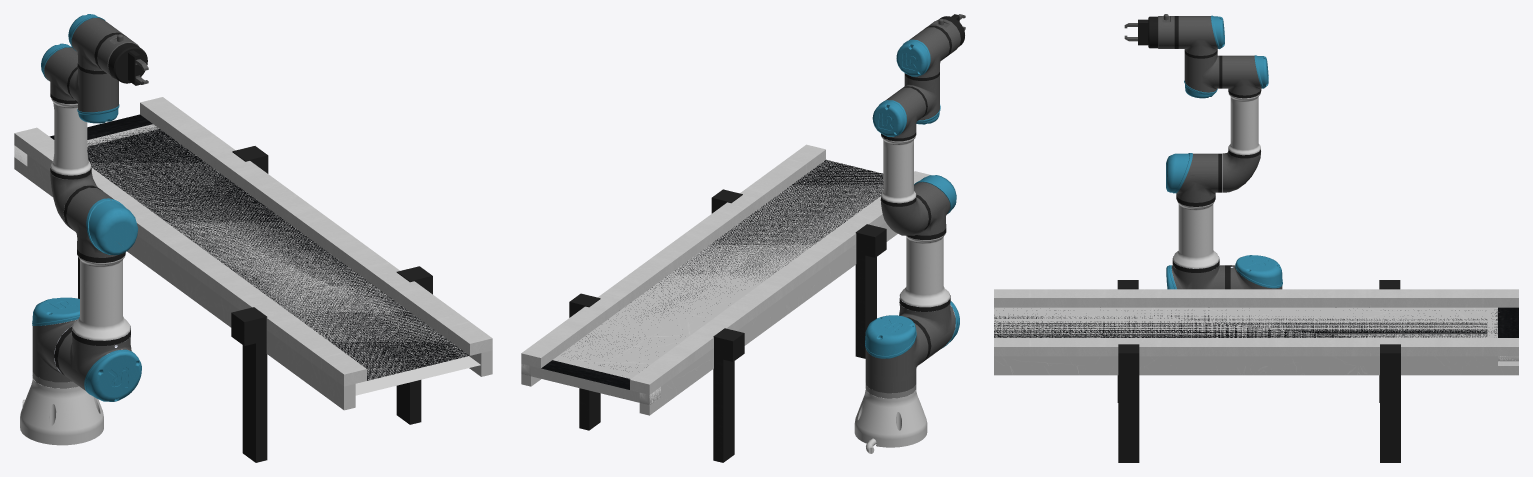
Rendered from UR_Pick_and_Place_Station_v1.glb.
The picture shows the model from 3 angles, left to right: view 1: azimuth 30°, elevation 25°; view 2: azimuth 150°, elevation 25°; view 3: azimuth 270°, elevation 25°; orthographic projection. The views are drawn at different scales.
Visible parts, largest first — view 1: color-6[5], color-6[2], URjoint2_Bodies, color-6[3], color-6[4], URjoint3_Bodies, URbase_Bodies, color-7[1], URjoint1_Bodies, URjoint4_Bodies, URjoint5_Bodies, color-7[2] (+5 smaller); view 2: color-6[5], color-6[2], color-6[3], color-6[4], URjoint2_Bodies, URjoint3_Bodies, URjoint1_Bodies, URbase_Bodies, color-7, color-7[1], color-6, URjoint5_Bodies (+3 smaller); view 3: color-6[5], color-6[4], color-6[3], color-6[2], URjoint2_Bodies, URjoint3_Bodies, color-7[2], color-7[3], URjoint5_Bodies, URjoint1_Bodies, URjoint4_Bodies, color-6 (+2 smaller).
Boxes of the visible parts, x1,y1,x2,y2 form: color-6[5]: (34,129,492,410); color-6[2]: (49,114,469,380); URjoint2_Bodies: (54,187,141,401); color-6[3]: (140,97,492,355); color-6[4]: (14,127,366,386); URjoint3_Bodies: (41,43,102,228); URbase_Bodies: (20,378,103,445); color-7[1]: (231,307,267,462); URjoint1_Bodies: (32,297,79,388); URjoint4_Bodies: (67,66,119,123); URjoint5_Bodies: (68,14,123,74); color-7[2]: (396,266,432,424); color-6[5]: (558,160,897,401); color-6[2]: (541,159,883,389); color-6[3]: (521,144,825,368); color-6[4]: (630,171,931,394); URjoint2_Bodies: (896,175,959,362); URjoint3_Bodies: (872,87,931,235); URjoint1_Bodies: (865,315,928,398); URbase_Bodies: (854,388,927,453); color-7: (713,328,744,462); color-7[1]: (855,224,886,358); color-6: (521,356,678,415); URjoint5_Bodies: (896,27,949,80); color-6[5]: (994,307,1487,375); color-6[4]: (994,289,1518,307); color-6[3]: (994,338,1518,356); color-6[2]: (994,307,1518,337); URjoint2_Bodies: (1166,153,1230,289); URjoint3_Bodies: (1218,55,1268,192); color-7[2]: (1118,344,1139,462); color-7[3]: (1380,344,1400,462); URjoint5_Bodies: (1178,15,1224,58); URjoint1_Bodies: (1230,255,1282,289); URjoint4_Bodies: (1184,52,1222,98); color-6: (1487,307,1518,375).
Bounding box in the file's own units: 0.5597 × 0.7308 × 1.
11 materials, 9 textured.
